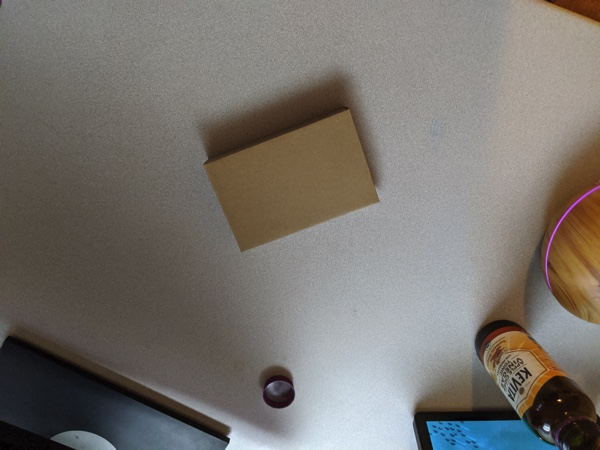cardboard: (187, 96, 409, 264)
